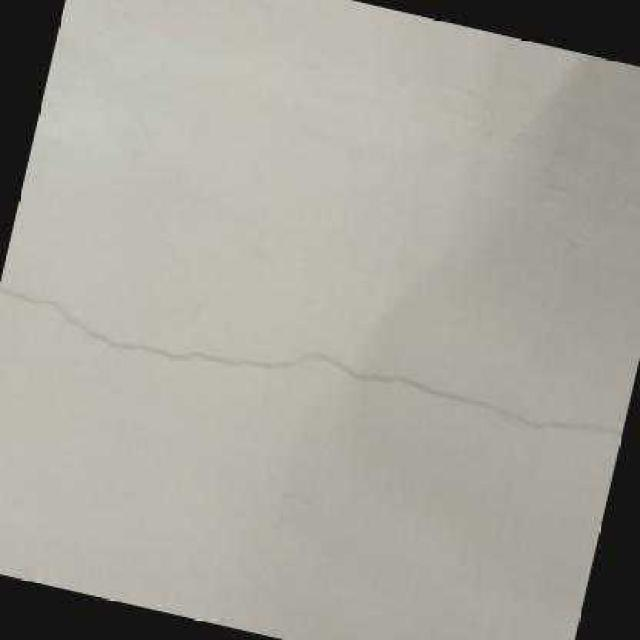D00: (0, 285, 623, 439)
